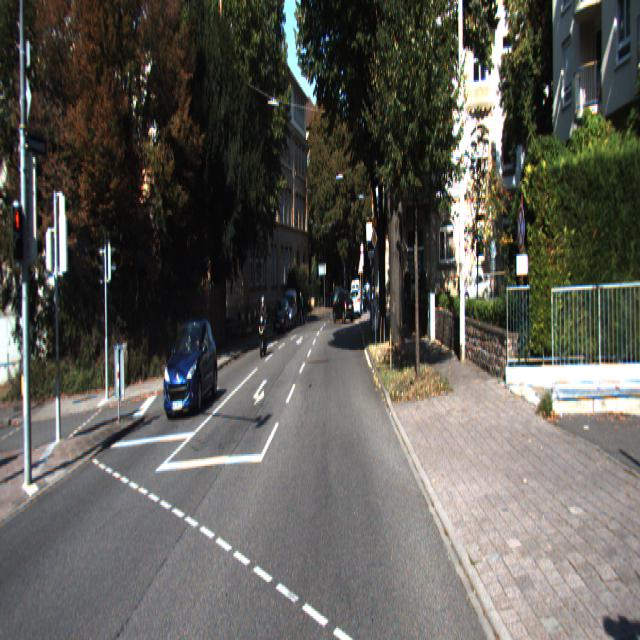Car: (162, 319, 218, 427), (256, 293, 270, 356), (332, 291, 355, 327), (272, 303, 290, 340), (349, 288, 361, 322)
